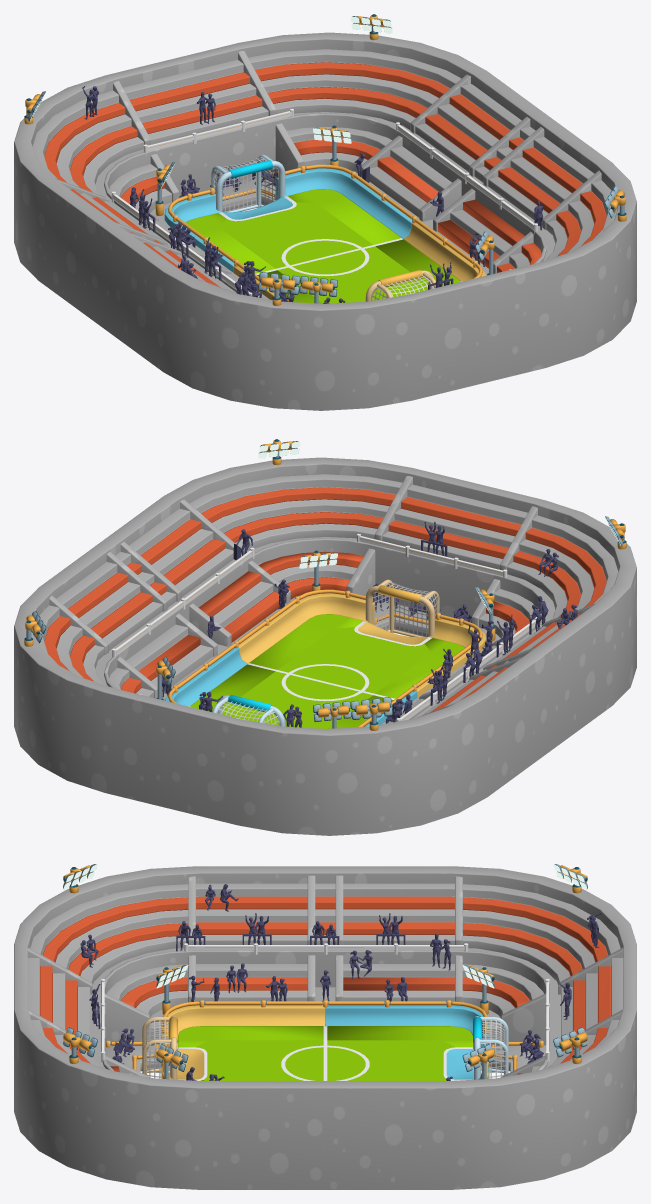
File: stadium2.glb
3 views of the same model, one above another, from view 1: azimuth 30°, elevation 25°; view 2: azimuth 150°, elevation 25°; view 3: azimuth 270°, elevation 25° (orthographic).
Parts seen in each view (by area): view 1: group69367443.001; view 2: group69367443.001; view 3: group69367443.001.
Boxes of the visible parts, left/top/right/bottom form: group69367443.001: left=14, top=14, right=636, bottom=410; group69367443.001: left=14, top=439, right=636, bottom=835; group69367443.001: left=14, top=864, right=636, bottom=1189.
Size of the model in its own units: 47.72 by 13.88 by 56.58.
Materials: 17 (4 with a texture image).
